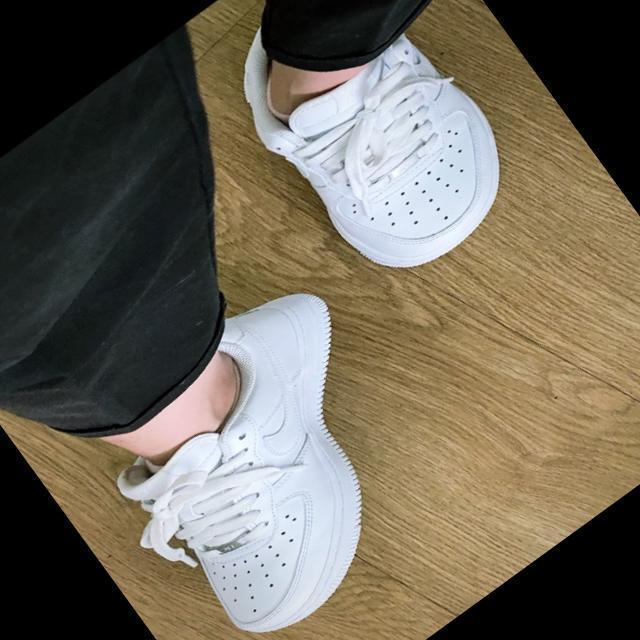nike original air force: (59, 262, 473, 640), (205, 0, 546, 302)
